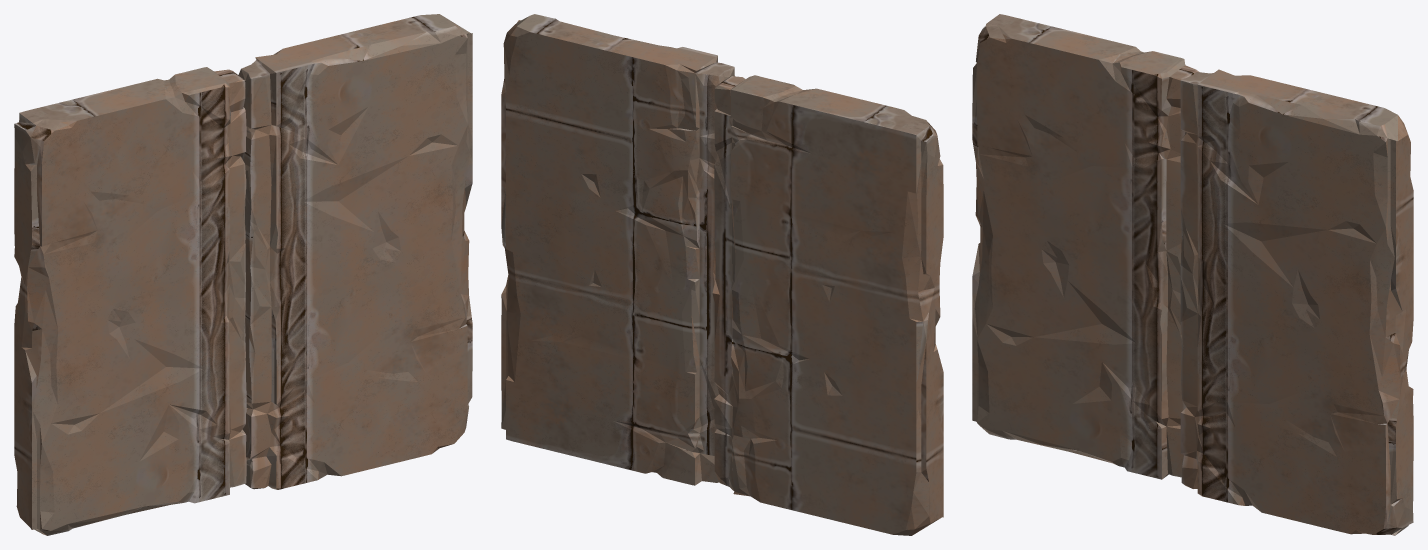
File: door.fbx
3 renders of one model, left to right at view 1: azimuth 30°, elevation 25°; view 2: azimuth 150°, elevation 25°; view 3: azimuth 330°, elevation 25°, orthographic.
Parts seen in each view (by area): view 1: rooftop_001, rooftop_000; view 2: rooftop_000, rooftop_001; view 3: rooftop_001, rooftop_000.
Part boxes in pixels (x1,y1,x2,y2): rooftop_001: (238, 14, 472, 489); rooftop_000: (14, 67, 246, 535); rooftop_000: (712, 75, 943, 535); rooftop_001: (501, 14, 734, 485); rooftop_001: (1180, 69, 1413, 535); rooftop_000: (972, 14, 1199, 479).
Size of the model in its own units: 524 by 482 by 58.38.
